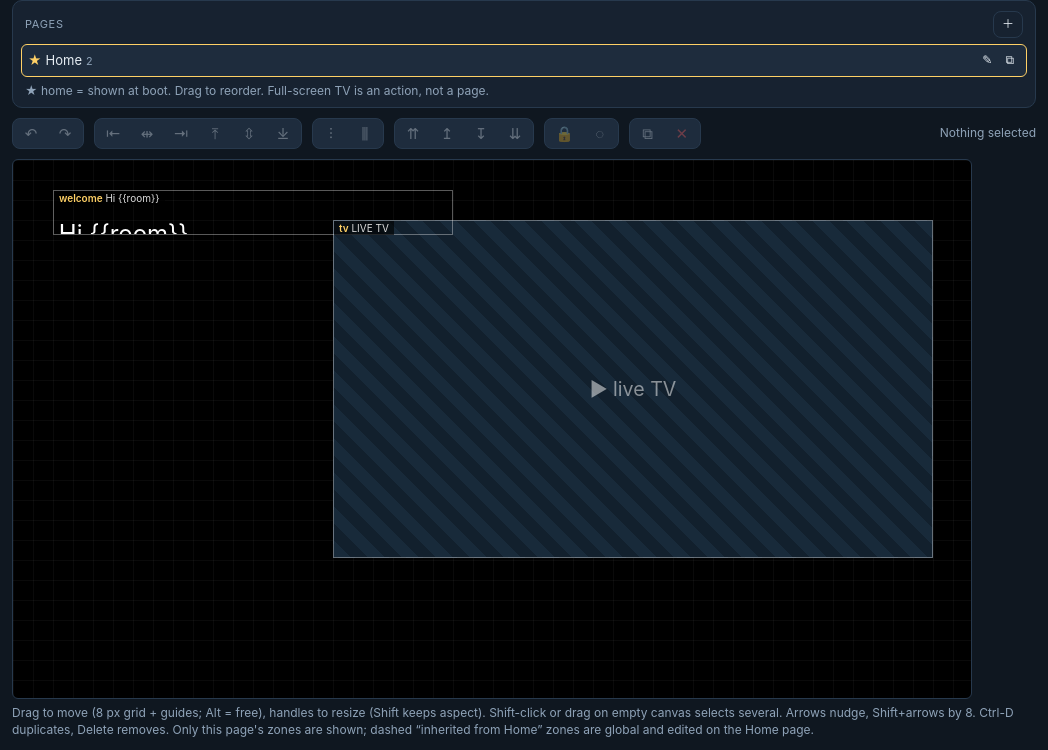
Test: canvas editor › renders zones at scale and selects on pointer down
Press the mouse on the element showing "tv LIVE TV ▶ live TV" at (633, 389), box [333, 220, 933, 558]
(page scrolled)
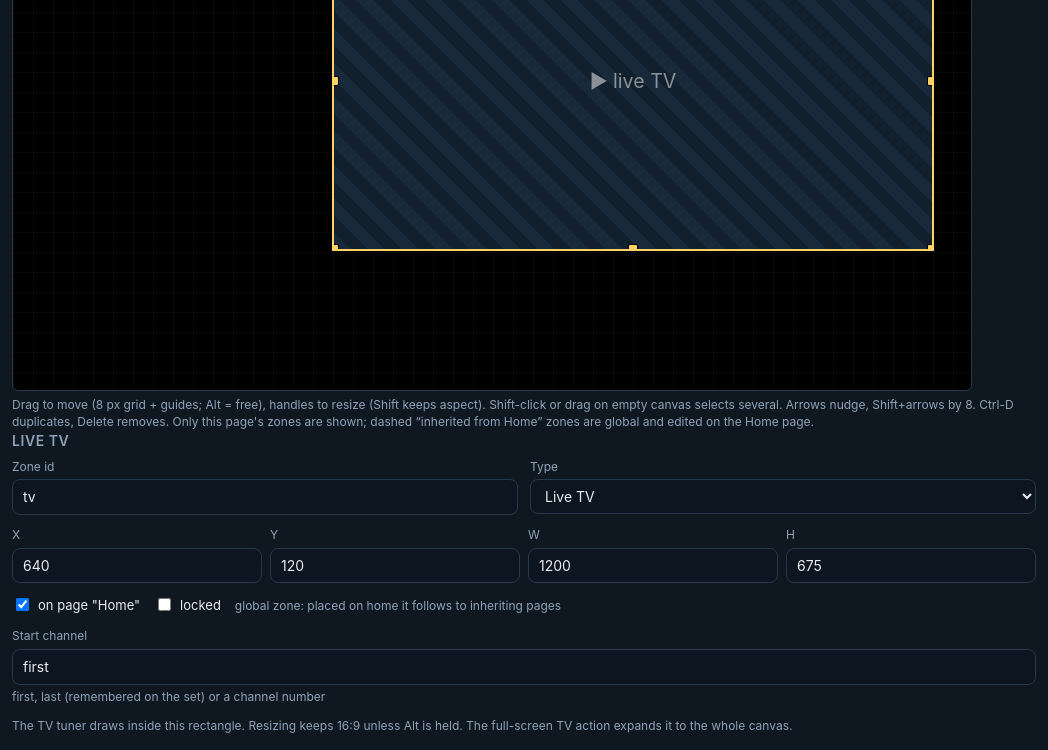
Now the number of elements with class "handle" is 8
Now the number field named "X" holds "640", box [12, 548, 262, 583]
